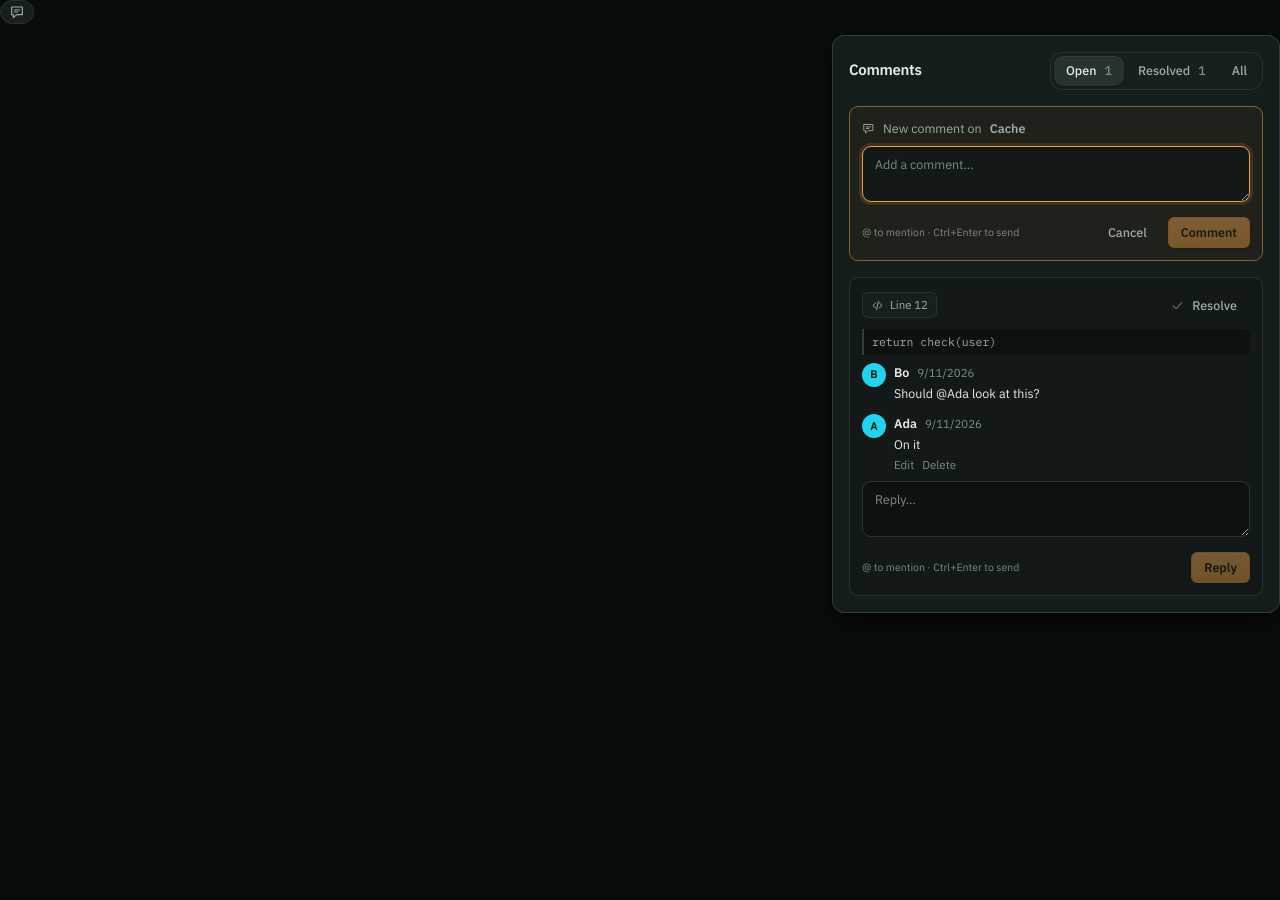
Test: writing a new comment › keeps typing in order straight after a person is picked
Type "ask @b" into the dropdown named "New comment" at (1056, 174), box [862,146,1250,202]
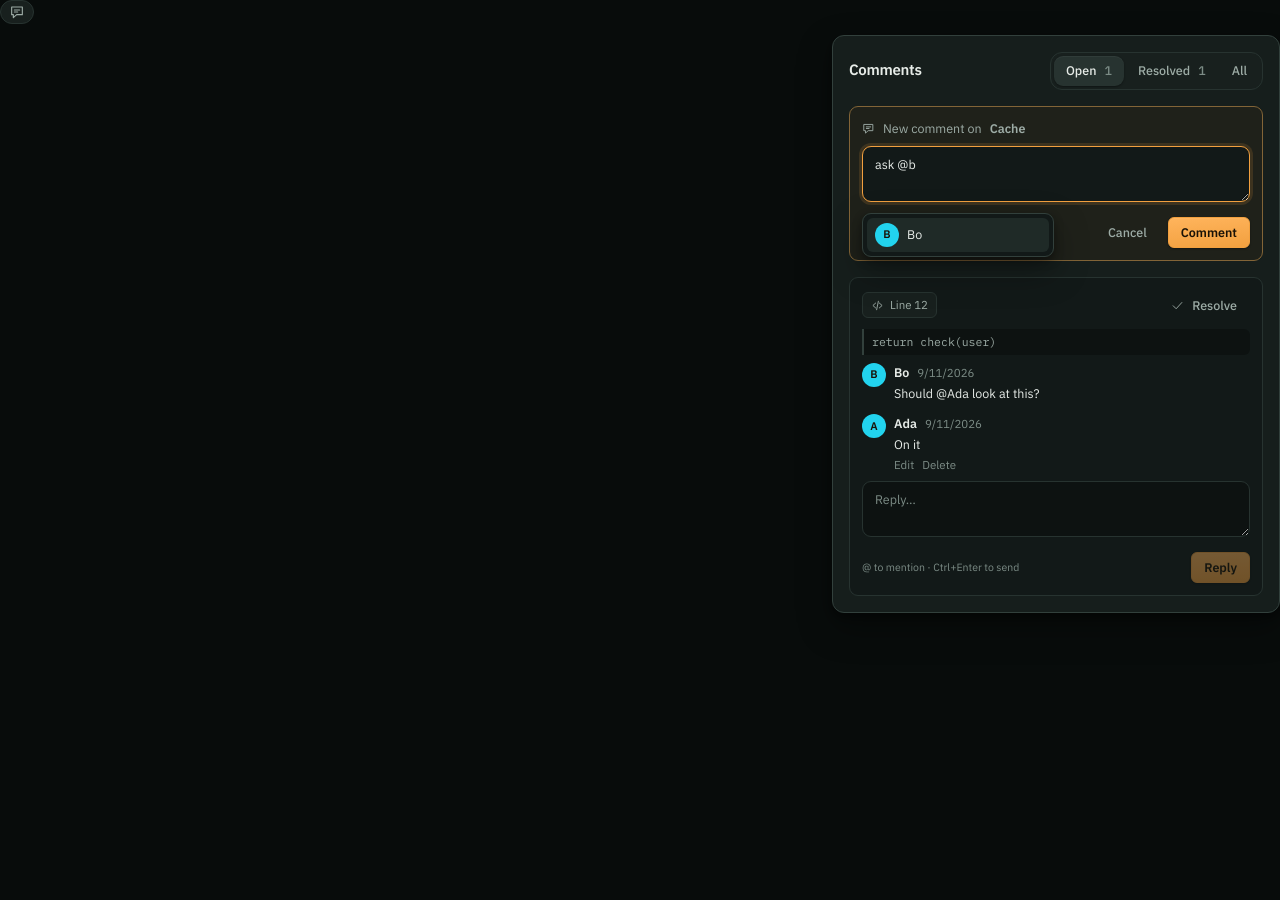
Press Enter
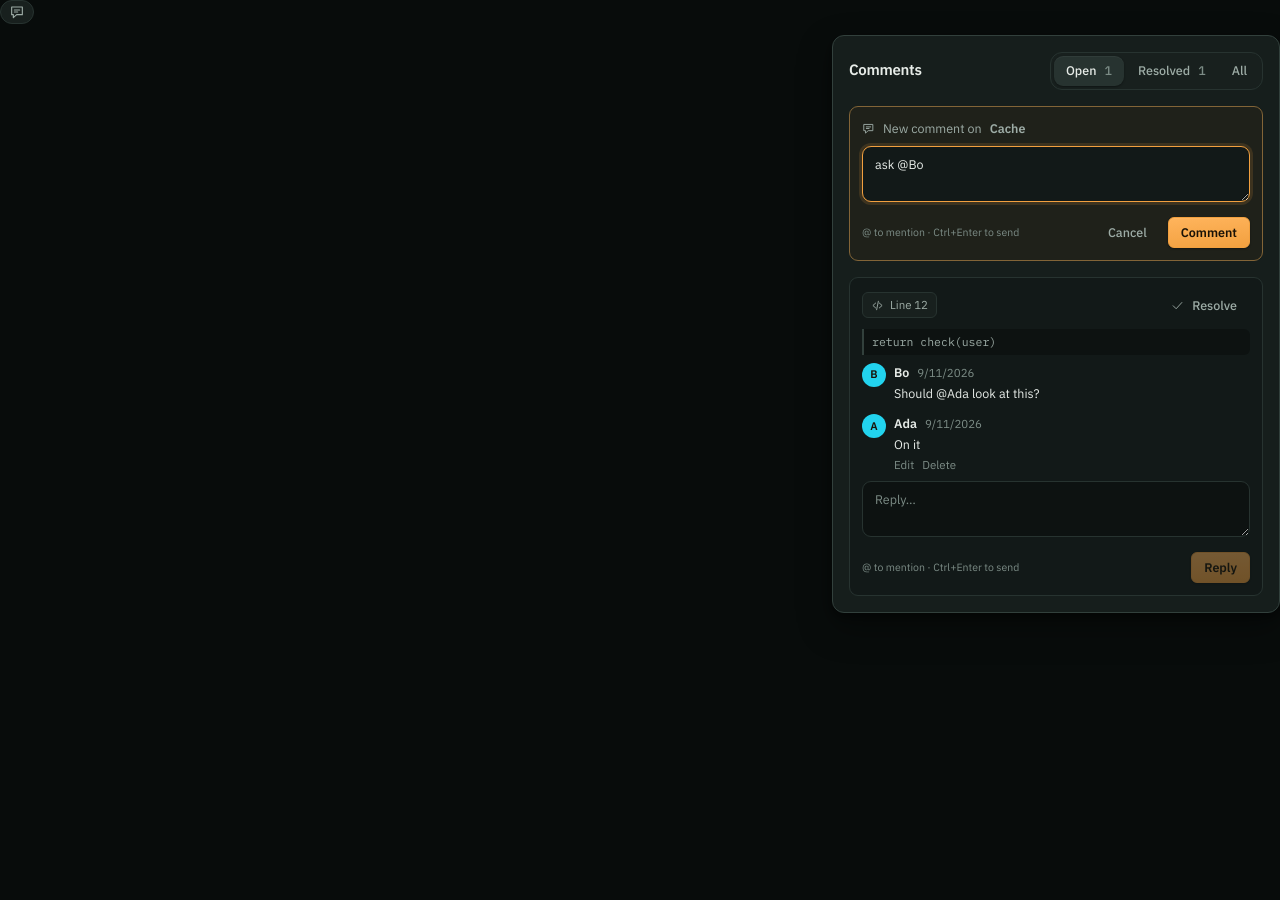
Type keys "can you confirm"
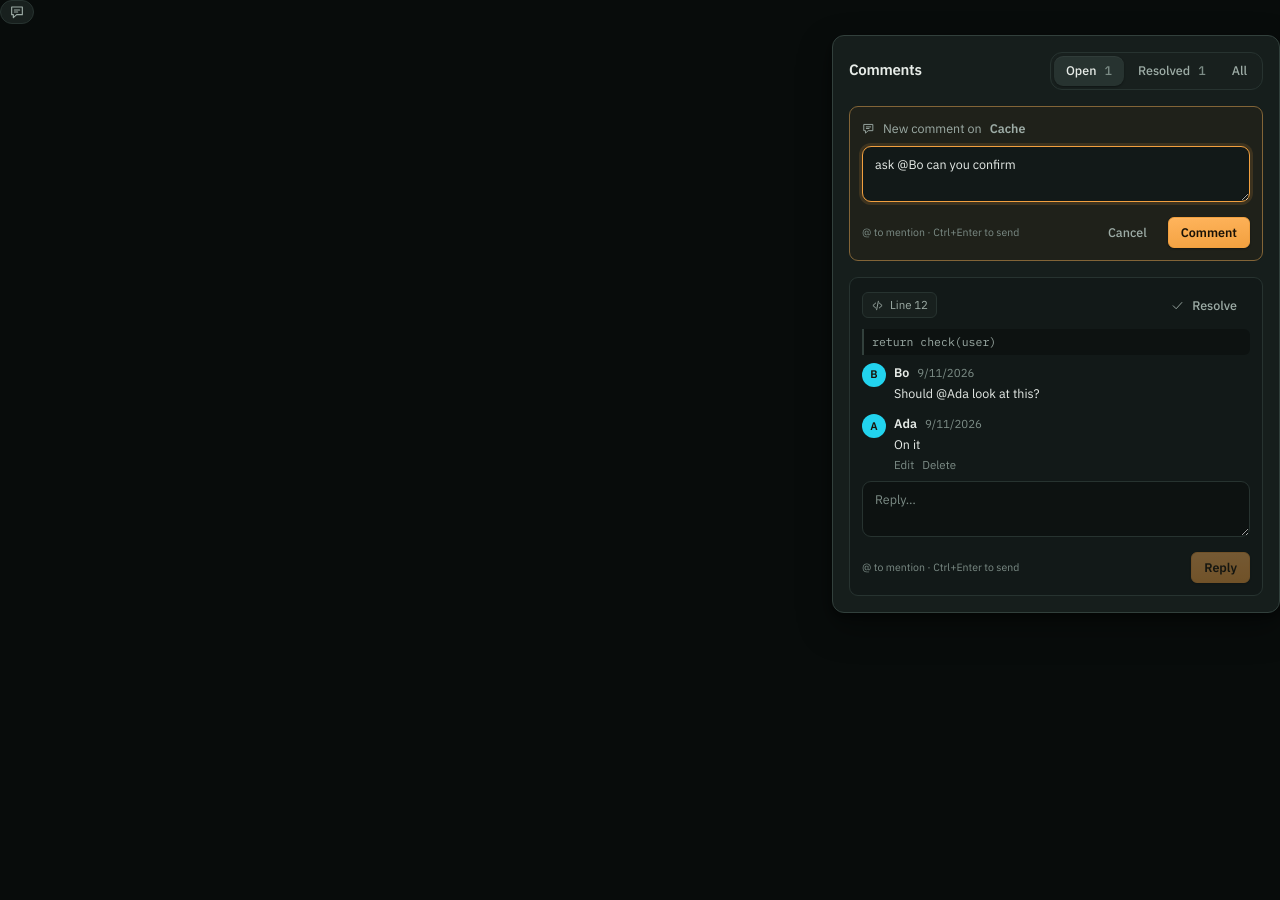
Result: the dropdown named "New comment" holds "ask @Bo can you confirm" at [862,146,1250,202]
